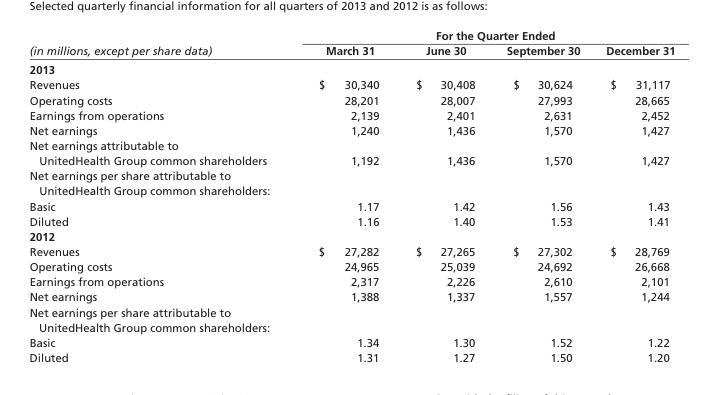table: (28, 28, 674, 363)
table column: (28, 28, 291, 363), (291, 28, 396, 363), (490, 28, 592, 363), (396, 28, 490, 363), (592, 28, 674, 363)
table column header: (28, 28, 674, 59)
table projected row header: (28, 167, 674, 198), (28, 304, 674, 334), (28, 59, 674, 76), (28, 228, 674, 243)
table row: (28, 167, 674, 198), (28, 137, 674, 167), (28, 304, 674, 334), (28, 42, 674, 59), (28, 59, 674, 76), (28, 76, 674, 92), (28, 273, 674, 289), (28, 92, 674, 107), (28, 107, 674, 122), (28, 122, 674, 137), (28, 198, 674, 213), (28, 213, 674, 228), (28, 228, 674, 243), (28, 243, 674, 258), (28, 258, 674, 273), (28, 289, 674, 304), (28, 334, 674, 349), (28, 28, 674, 42), (28, 349, 674, 363)
table spanning cell: (28, 28, 291, 59), (291, 28, 674, 42)
